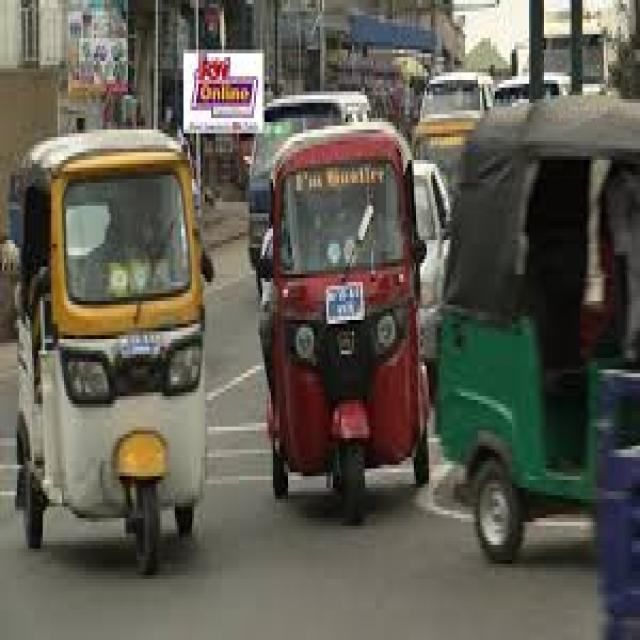car: (414, 160, 448, 400)
three wheeler: (437, 99, 638, 556), (15, 130, 209, 575), (269, 122, 427, 522)
van: (247, 91, 367, 270)
